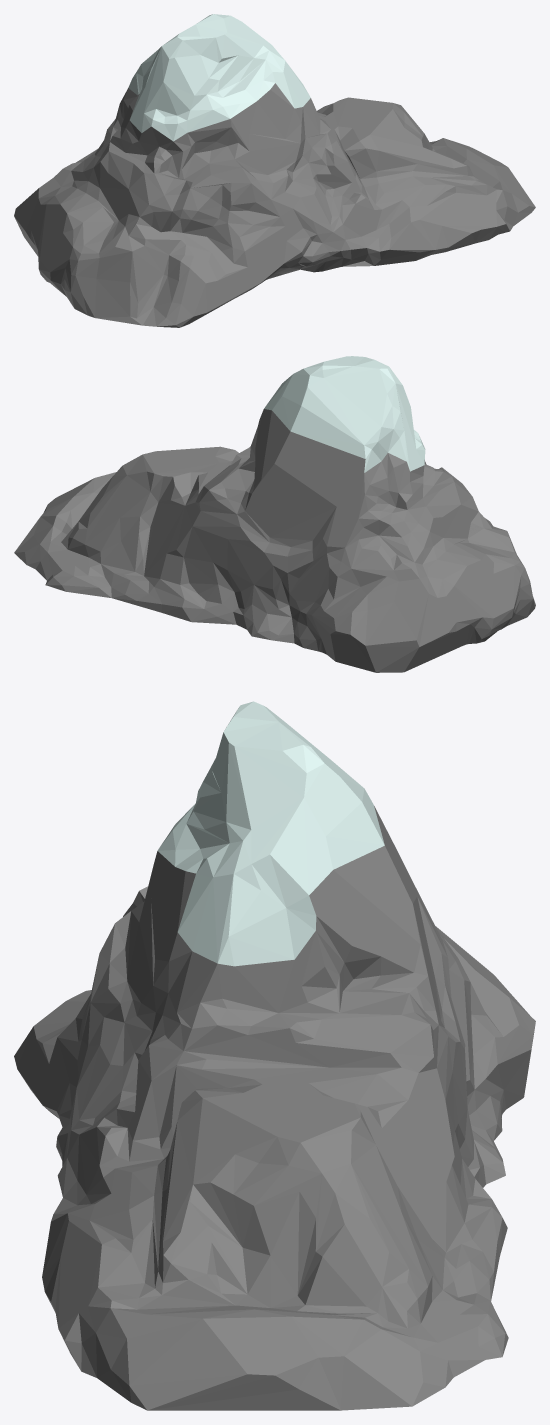
Rendered from SM_mountain_05.fbx.
3 views of the same model, one above another, from view 1: azimuth 30°, elevation 25°; view 2: azimuth 150°, elevation 25°; view 3: azimuth 270°, elevation 25° (orthographic). The views are drawn at different scales.
Visible parts, largest first — view 1: mountain_05; view 2: mountain_05; view 3: mountain_05.
Part boxes in pixels (x1,y1,x2,y2): mountain_05: [14, 14, 535, 327]; mountain_05: [14, 356, 535, 672]; mountain_05: [14, 701, 535, 1410].
Bounding box in the file's own units: 10487 × 5079 × 5729.
